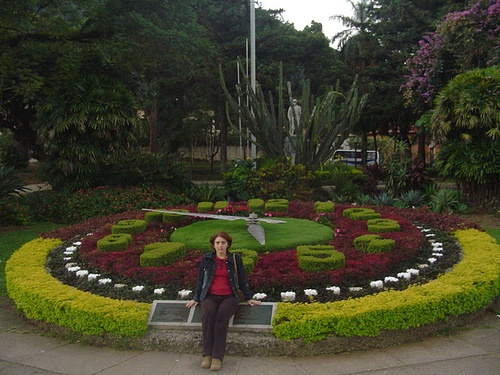head: (213, 234, 229, 254)
person: (186, 232, 247, 370)
